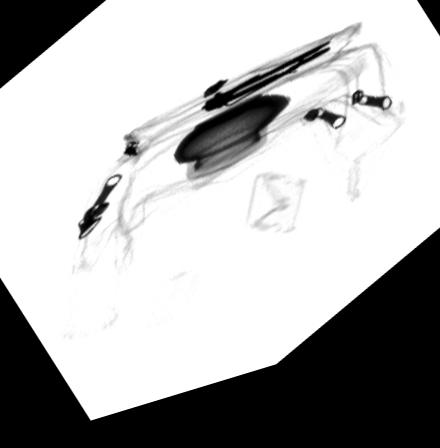Knife: (198, 58, 331, 126)
